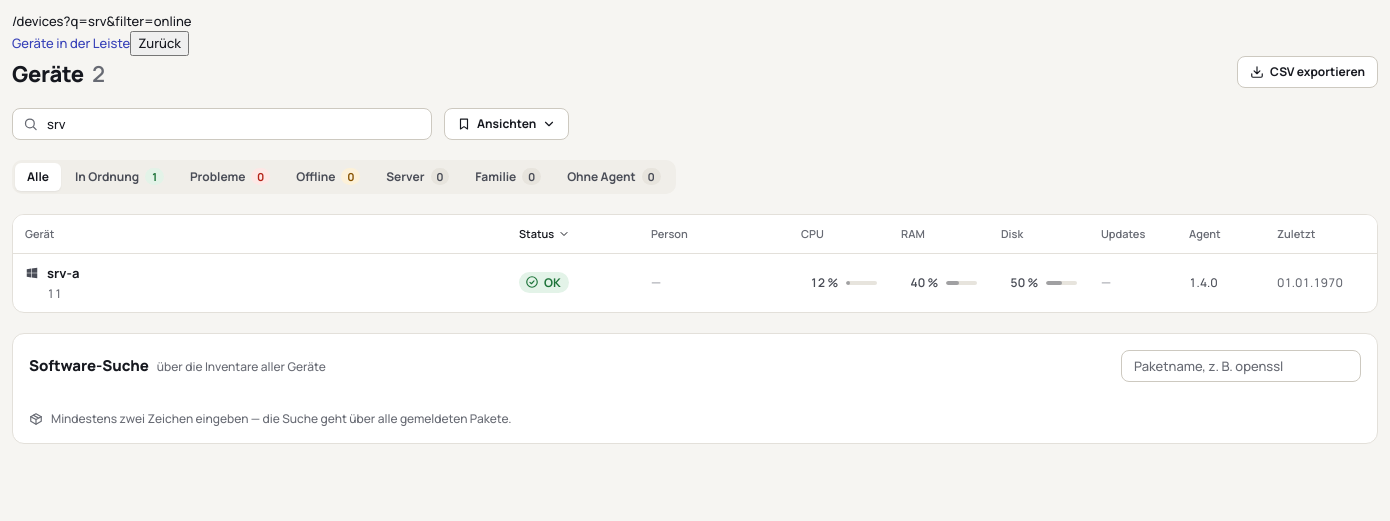
Test: DevicesPage Suche und Person › übernimmt die Suche aus der Adresse, wenn die Leiste die Seite neu öffnet
The width and height of the screenshot is (1390, 521).
Click the link "Geräte in der Leiste".
click(71, 43)  # box left=12, top=34, right=130, bottom=52
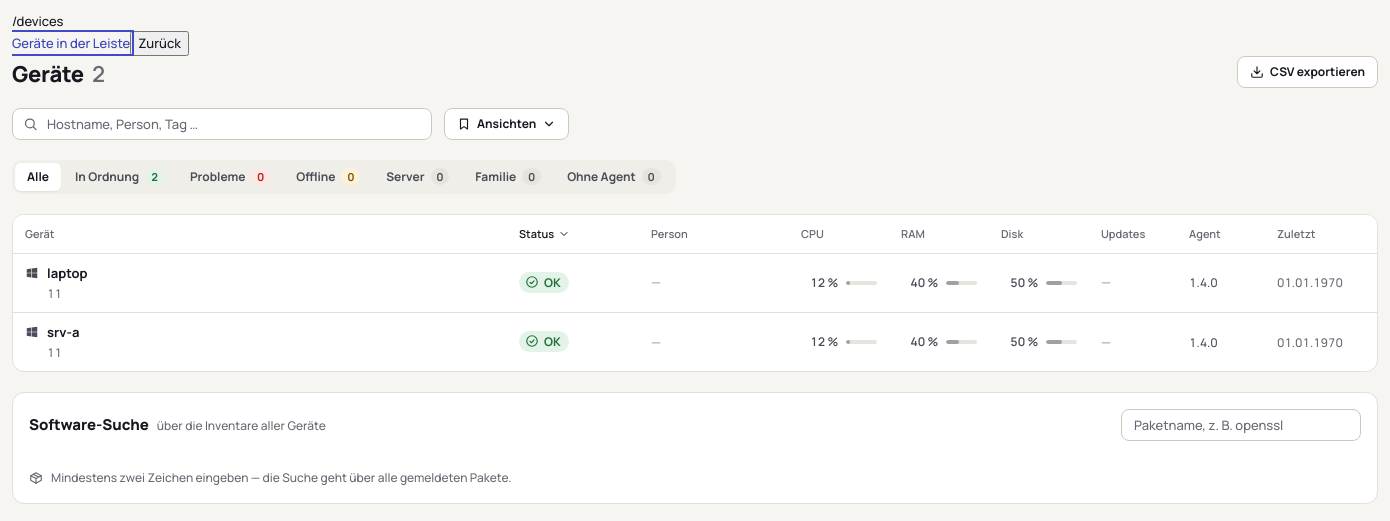
Expected: the text with test id "location" reads "/devices", left=12, top=12, right=64, bottom=30
Expected: the search field named "Geräte durchsuchen" is empty, left=12, top=108, right=432, bottom=140
